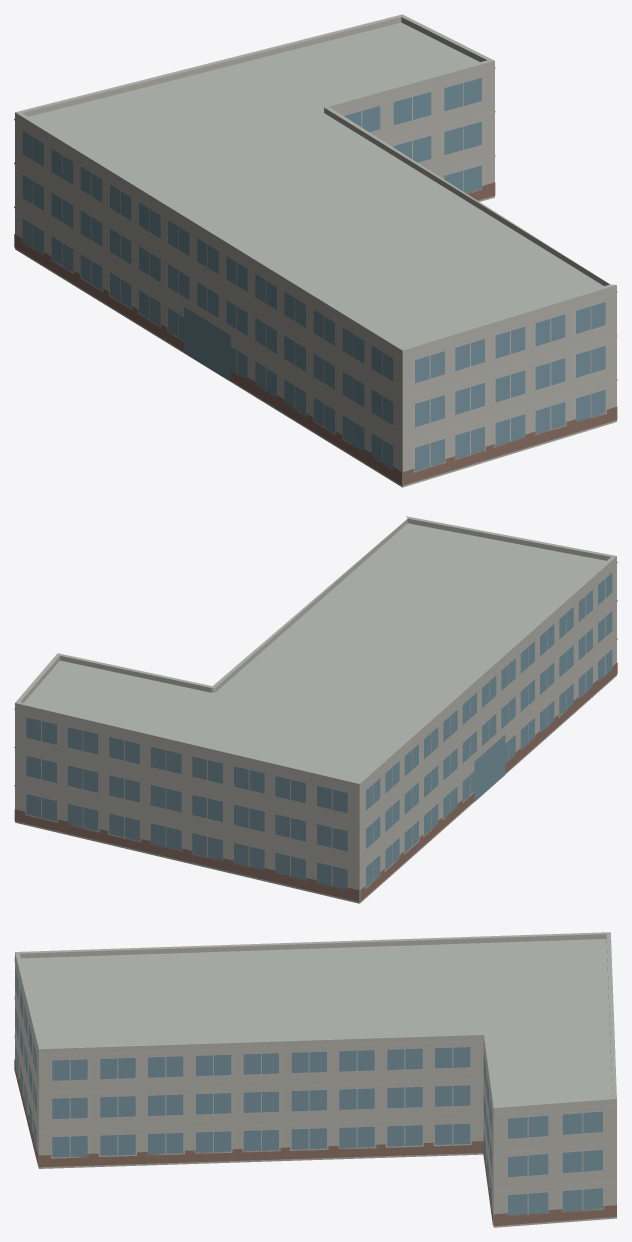
File: public-3b7ed32f-bc64-42b4-ae74-4e190ad3bceb.glb
3 views of the same model, one above another, from view 1: azimuth 30°, elevation 25°; view 2: azimuth 150°, elevation 25°; view 3: azimuth 270°, elevation 25° (orthographic). The views are drawn at different scales.
Parts seen in each view (by area): view 1: public-3b7ed32f-bc64-42b4-ae74-4e190ad3bceb; view 2: public-3b7ed32f-bc64-42b4-ae74-4e190ad3bceb; view 3: public-3b7ed32f-bc64-42b4-ae74-4e190ad3bceb.
Boxes of the visible parts, x1,y1,x2,y2 form: public-3b7ed32f-bc64-42b4-ae74-4e190ad3bceb: (14,14,617,487); public-3b7ed32f-bc64-42b4-ae74-4e190ad3bceb: (14,516,617,903); public-3b7ed32f-bc64-42b4-ae74-4e190ad3bceb: (14,932,616,1227).
Bounding box in the file's own units: 28.99 × 9.15 × 41.85.
